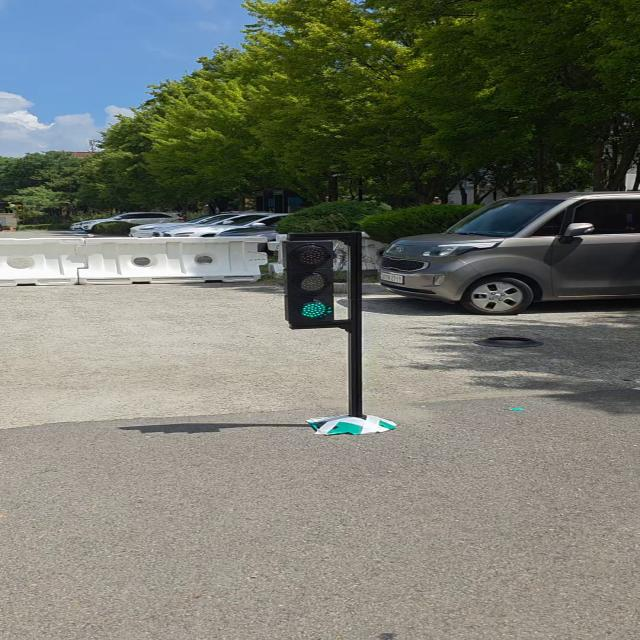green: (283, 237, 336, 328)
